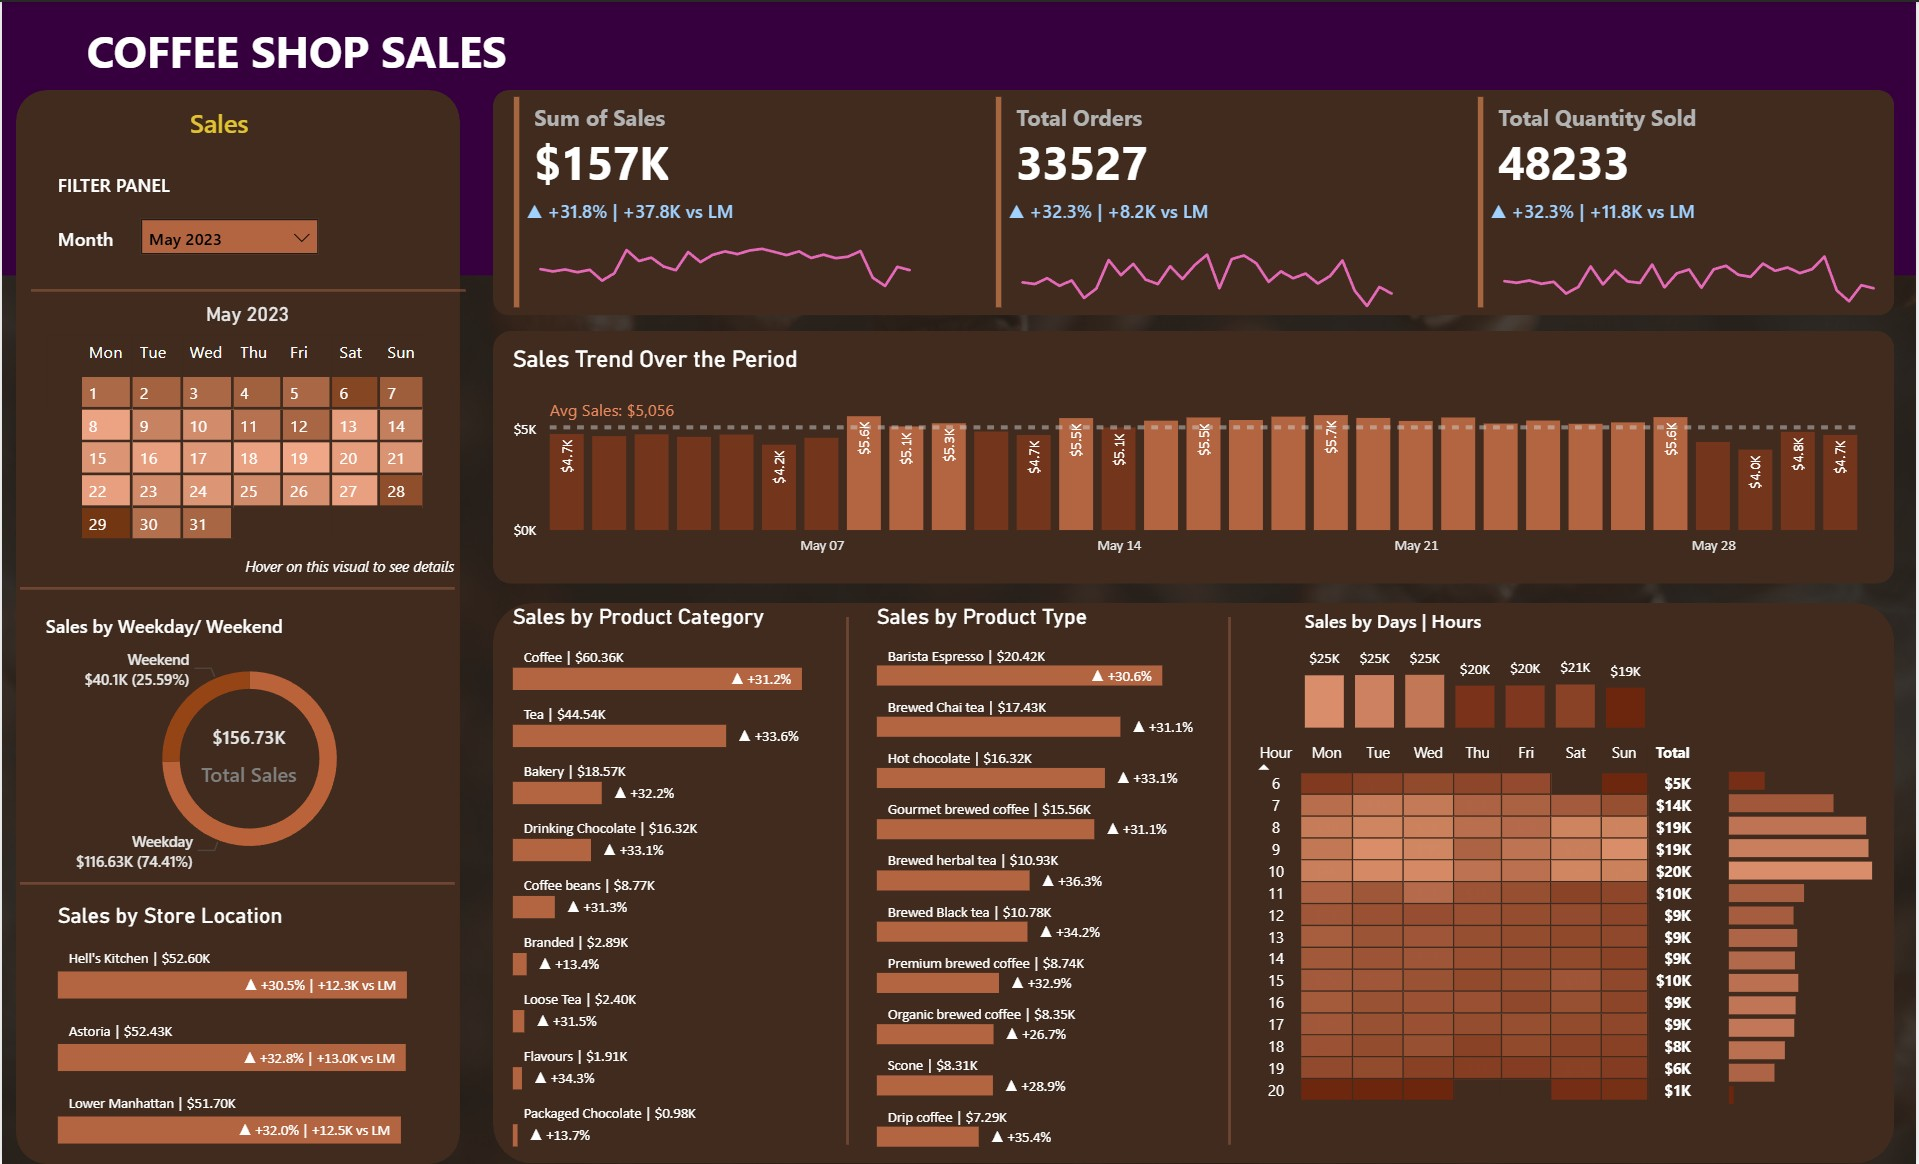

The page's visual inventory and layout, read from the dashboard file:
{"tool":"powerbi","page":{"name":"Coffee Shop Sales Report","canvas":[1400,850],"ordinal":0},"visuals":[{"type":"shape","box":[0,0,1400,200],"z":0},{"type":"shape","box":[10.5,64.4,324.7,785.7],"z":1000},{"type":"shape","box":[358.9,64.7,1025.1,164.9],"z":2000},{"type":"textbox","box":[57.4,8,328.4,56.7],"z":3000},{"type":"cardVisual","fields":{"Data":["Sum(Transactions.Sales)"]},"box":[369.1,64.7,300,164.9],"z":4000,"group":"g1"},{"type":"cardVisual","fields":{"Data":["Transactions.Total Orders"]},"box":[721.8,64.7,300,164.9],"z":4000,"group":"g2"},{"type":"cardVisual","fields":{"Data":["Transactions.Total Quantity Sold"]},"box":[1074.5,64.7,300,164.9],"z":4000,"group":"g3"},{"type":"slicer","fields":{"Values":["Date Table.Month Year"]},"box":[96.5,153.4,139.9,39.7],"z":4000},{"type":"group","id":"g1","title":"Group 1","box":[369.1,64.7,309.5,164.9],"z":5000},{"type":"group","id":"g2","title":"Group 1","box":[721.8,64.7,309.5,164.9],"z":6000},{"type":"lineChart","fields":{"Y":["Transactions.Total Sales"],"Category":["Date Table.Date.Variation.Date Hierarchy.Year","Date Table.Date.Variation.Date Hierarchy.Quarter","Date Table.Date.Variation.Date Hierarchy.Month","Date Table.Date.Variation.Date Hierarchy.Day"]},"box":[378.5,144.6,300,85],"z":6000,"group":"g1"},{"type":"lineChart","fields":{"Category":["Date Table.Date.Variation.Date Hierarchy.Year","Date Table.Date.Variation.Date Hierarchy.Quarter","Date Table.Date.Variation.Date Hierarchy.Month","Date Table.Date.Variation.Date Hierarchy.Day"],"Y":["Transactions.Total Orders"]},"box":[731.2,144.6,300,85],"z":6000,"group":"g2"},{"type":"lineChart","fields":{"Category":["Date Table.Date.Variation.Date Hierarchy.Year","Date Table.Date.Variation.Date Hierarchy.Quarter","Date Table.Date.Variation.Date Hierarchy.Month","Date Table.Date.Variation.Date Hierarchy.Day"],"Y":["Transactions.Total Quantity Sold"]},"box":[1083.9,144.6,300,85],"z":6000,"group":"g3"},{"type":"group","id":"g3","title":"Group 1","box":[1074.5,64.7,309.5,164.9],"z":7000},{"type":"pivotTable","fields":{"Rows":["Date Table.Week Number"],"Columns":["Date Table.Day Name"],"Values":["Min(Date Table.Day Number)"]},"box":[28.3,239,305,190],"z":8000},{"type":"card","fields":{"Values":["Min(Date Table.Month Year)"]},"box":[137.3,211.4,84.3,35.6],"z":9000},{"type":"card","fields":{"Values":["Transactions.Foot Note"]},"box":[166.4,401,176.5,24],"z":10000},{"type":"shape","box":[13.5,417.5,318,22.4],"z":11000},{"type":"shape","box":[21.1,199.8,318.2,22.5],"z":12000},{"type":"donutChart","title":"Sales by Weekday/ Weekend","fields":{"Category":["Date Table.Weekday/ Weekend"],"Y":["Transactions.Total Sales"]},"box":[26.9,447.5,308,194.7],"z":13000},{"type":"card","fields":{"Values":["Transactions.Total Sales"]},"box":[125,523.1,111.2,53.8],"z":14000},{"type":"shape","box":[13.5,633.8,318,22.4],"z":15000},{"type":"clusteredBarChart","title":"Sales by Store Location","fields":{"Category":["Transactions.store_location"],"Y":["Transactions.Placeholder","Transactions.Total Sales"]},"box":[35.6,658.2,290.6,184.5],"z":16000},{"type":"shape","box":[359.2,240.9,1025.1,184.8],"z":17000},{"type":"columnChart","title":"Sales Trend Over the Period","fields":{"Category":["Transactions.transaction_date"],"Y":["Transactions.Total Sales"]},"box":[368.9,250.7,997.4,162.4],"z":18000},{"type":"shape","box":[359.2,440,1025.1,410],"z":19000},{"type":"clusteredBarChart","title":"Sales by Product Category","fields":{"Category":["Transactions.product_category"],"Y":["Transactions.Placeholder","Transactions.Total Sales"]},"box":[368.9,440,249.9,403.3],"z":20000},{"type":"shape","box":[602.4,449.7,32.9,386.1],"z":21000},{"type":"clusteredBarChart","title":"Sales by Product Type","fields":{"Y":["Transactions.Placeholder","Transactions.Total Sales"],"Category":["Transactions.product_type"]},"box":[635.3,440,249.9,403.3],"z":22000},{"type":"shape","box":[881.5,449.7,32.9,386.1],"z":23000},{"type":"pivotTable","fields":{"Rows":["Transactions.Hour"],"Values":["Transactions.Total Sales"],"Columns":["Date Table.Day Name"]},"box":[909.1,536.5,369.6,308.3],"z":24000},{"type":"barChart","fields":{"Category":["Transactions.Hour"],"Y":["Transactions.Total Sales"]},"box":[1257.8,550,116.7,261.1],"z":25000},{"type":"columnChart","title":"Sales by Days | Hours","fields":{"Y":["Transactions.Total Sales"],"Category":["Date Table.Day Name"]},"box":[948,443.7,259.6,92.8],"z":26000},{"type":"textbox","box":[35.9,159.4,60.6,27.7],"z":27000},{"type":"textbox","box":[35.9,119.7,96.5,27.7],"z":28000},{"type":"textbox","box":[132.4,71.1,77.8,38.9],"z":29000}]}

Visuals, with their boxes in screenshot pixels (x1, y1, x2, y2), scaled from the page's 1400x850 canvas onto the 1919x1164 screenshot:
shape: bbox(0, 0, 1918, 274)
shape: bbox(14, 88, 459, 1163)
shape: bbox(492, 89, 1897, 314)
textbox: bbox(79, 11, 529, 89)
cardVisual - Sum(Transactions.Sales): bbox(506, 89, 917, 314)
cardVisual - Transactions.Total Orders: bbox(989, 89, 1401, 314)
cardVisual - Transactions.Total Quantity Sold: bbox(1473, 89, 1884, 314)
slicer - Date Table.Month Year: bbox(132, 210, 324, 264)
"Group 1" group: bbox(506, 89, 930, 314)
"Group 1" group: bbox(989, 89, 1414, 314)
lineChart - Transactions.Total Sales x Date Table.Date.Variation.Date Hierarchy.Year: bbox(519, 198, 930, 314)
lineChart - Date Table.Date.Variation.Date Hierarchy.Year x Date Table.Date.Variation.Date Hierarchy.Quarter: bbox(1002, 198, 1413, 314)
lineChart - Date Table.Date.Variation.Date Hierarchy.Year x Date Table.Date.Variation.Date Hierarchy.Quarter: bbox(1486, 198, 1897, 314)
"Group 1" group: bbox(1473, 89, 1897, 314)
pivotTable - Date Table.Week Number x Date Table.Day Name: bbox(39, 327, 457, 587)
card - Min(Date Table.Month Year): bbox(188, 289, 304, 338)
card - Transactions.Foot Note: bbox(228, 549, 470, 582)
shape: bbox(19, 572, 454, 602)
shape: bbox(29, 274, 465, 304)
"Sales by Weekday/ Weekend" donutChart: bbox(37, 613, 459, 879)
card - Transactions.Total Sales: bbox(171, 716, 324, 790)
shape: bbox(19, 868, 454, 899)
"Sales by Store Location" clusteredBarChart: bbox(49, 901, 447, 1154)
shape: bbox(492, 330, 1897, 583)
"Sales Trend Over the Period" columnChart: bbox(506, 343, 1873, 566)
shape: bbox(492, 603, 1897, 1163)
"Sales by Product Category" clusteredBarChart: bbox(506, 603, 848, 1155)
shape: bbox(826, 616, 871, 1145)
"Sales by Product Type" clusteredBarChart: bbox(871, 603, 1213, 1155)
shape: bbox(1208, 616, 1253, 1145)
pivotTable - Transactions.Hour x Transactions.Total Sales: bbox(1246, 735, 1753, 1157)
barChart - Transactions.Hour x Transactions.Total Sales: bbox(1724, 753, 1884, 1111)
"Sales by Days | Hours" columnChart: bbox(1299, 608, 1655, 735)
textbox: bbox(49, 218, 132, 256)
textbox: bbox(49, 164, 181, 202)
textbox: bbox(181, 97, 288, 151)
